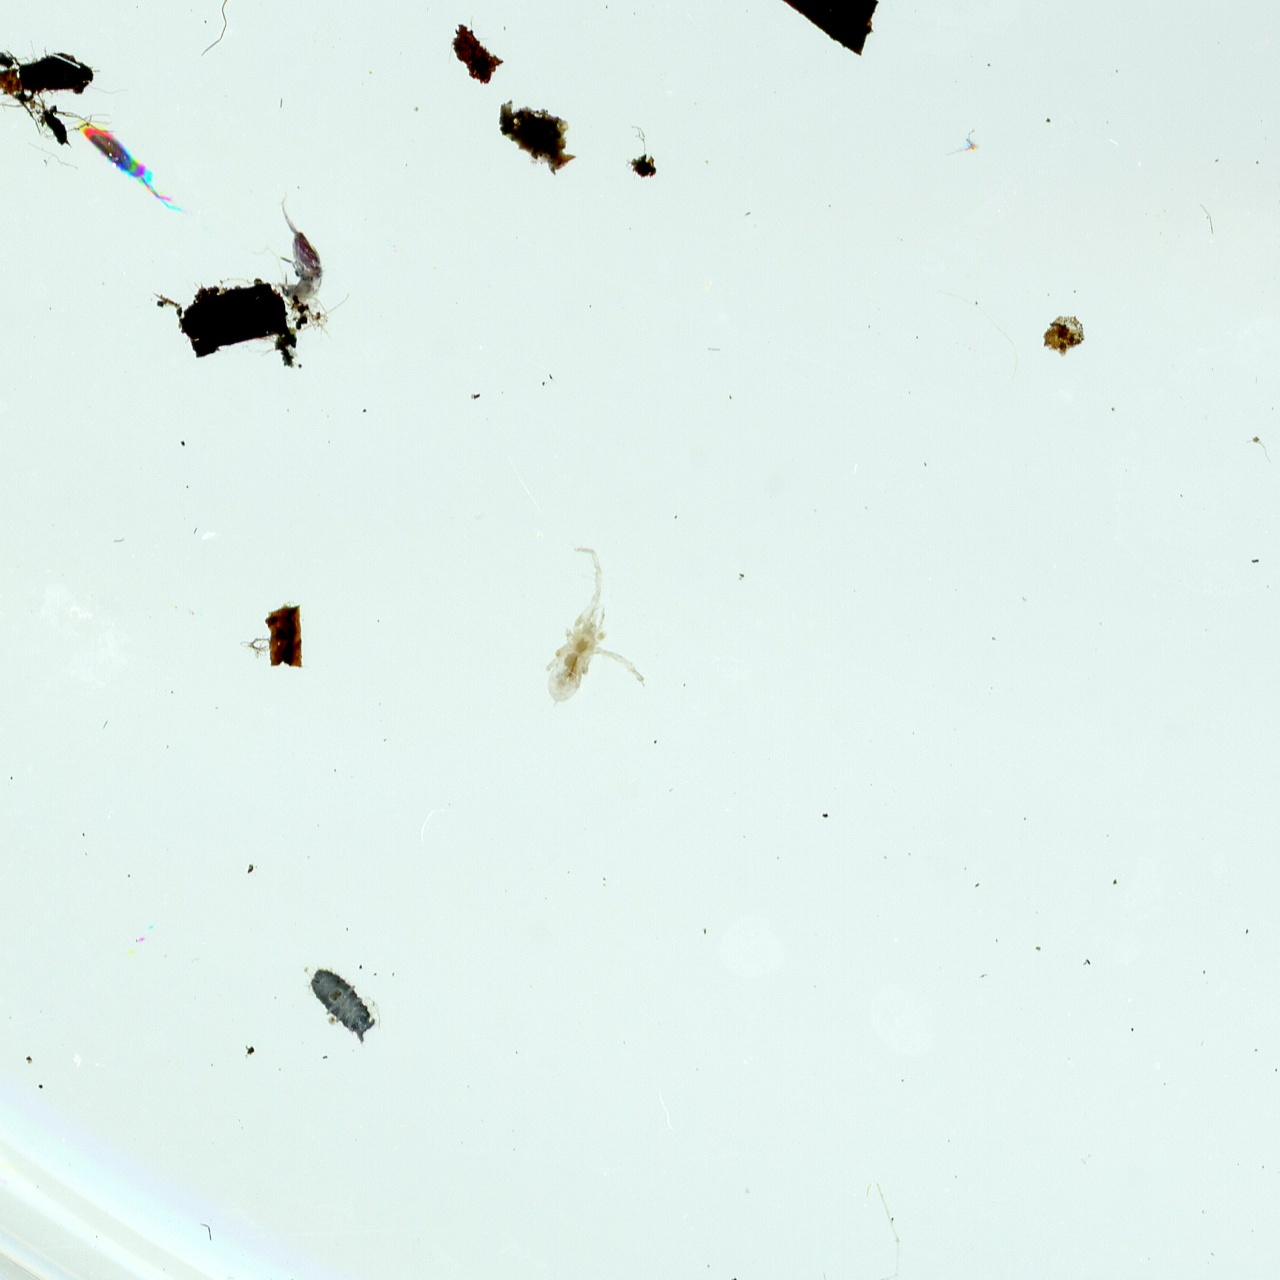arthropod: (520, 539, 685, 735), (66, 110, 195, 223), (297, 959, 388, 1049), (278, 193, 324, 300)
